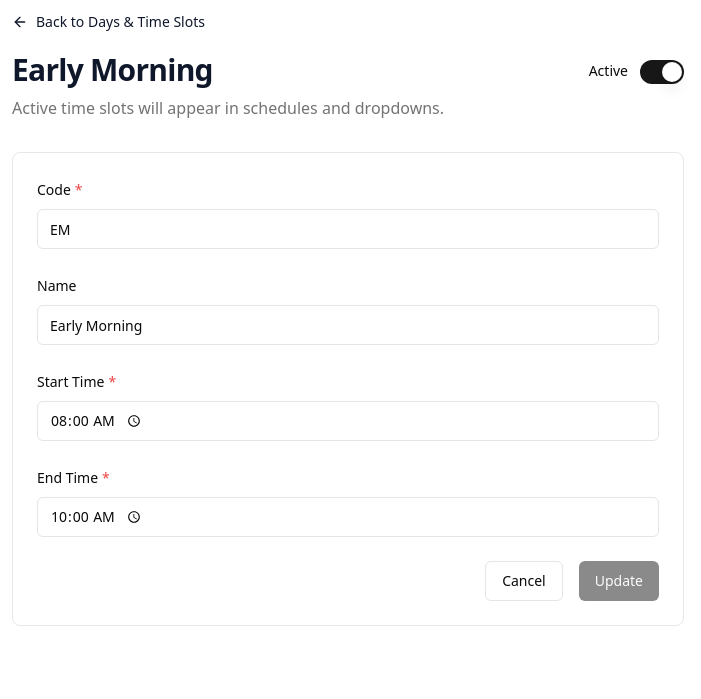
Test: TimeSlotForm (edit) › requires start and end time before submitting
The image size is (701, 699).
Clear the field showing "Early Morning" at (348, 325), box [37,305,659,345]
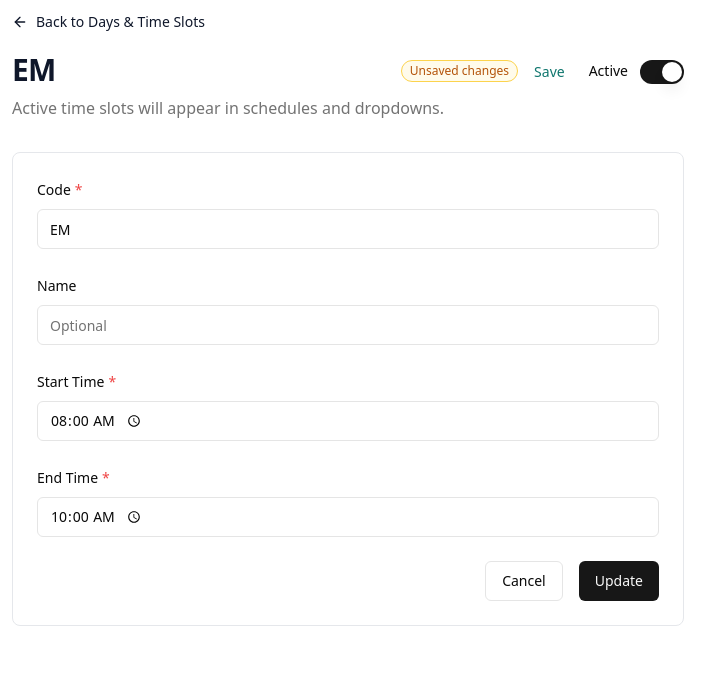
Clear the time field showing "08:00" at (348, 421), box [37,401,659,441]
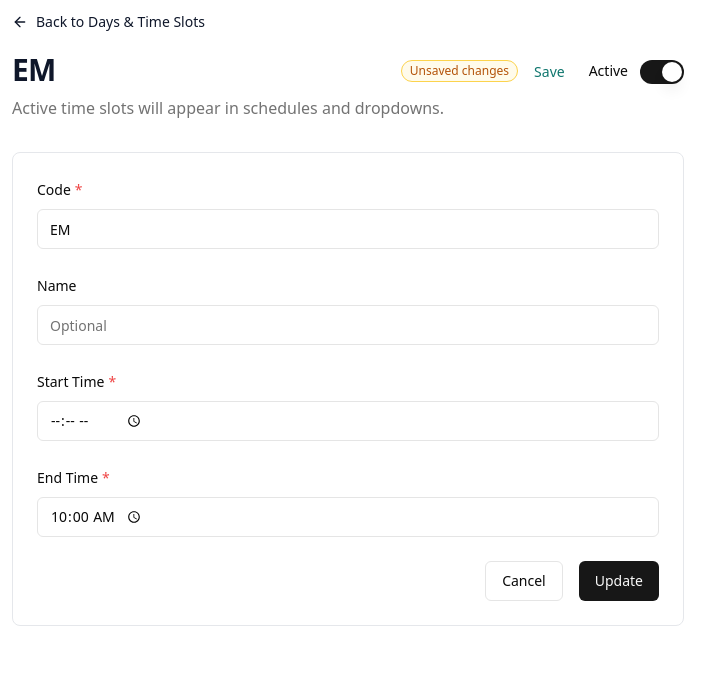
Clear the time field showing "10:00" at (348, 517), box [37,497,659,537]
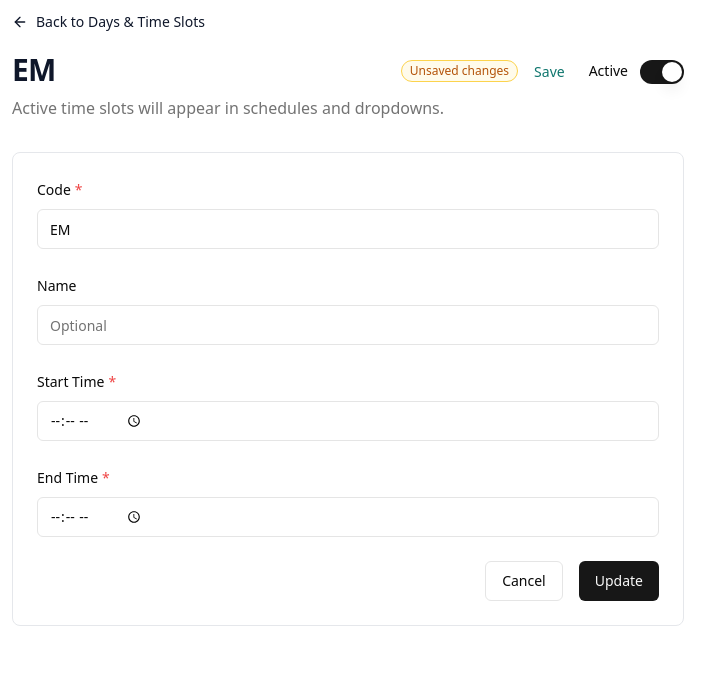
Click the button "Update".
click(619, 581)  # box [579,561,659,601]
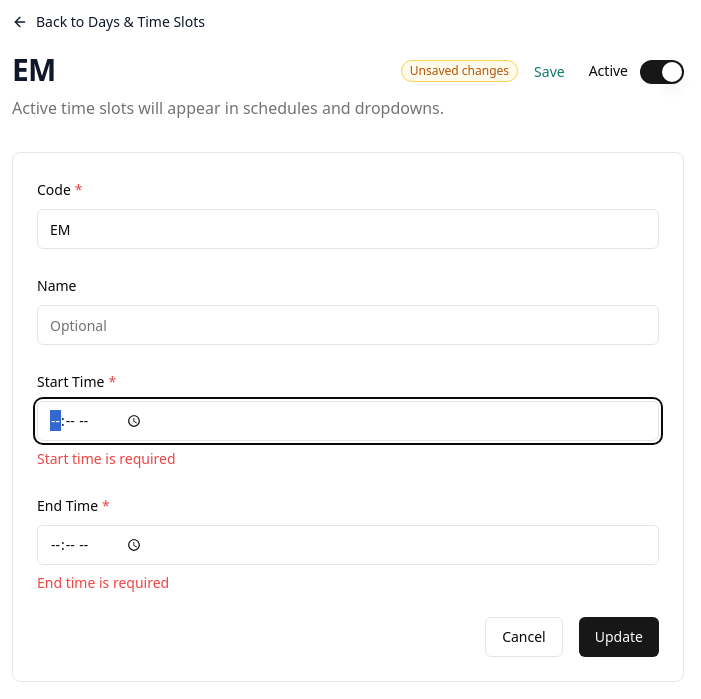
Expected: the text "Start time is required" is shown, [37,449,176,468]
Expected: the text "End time is required" is shown, [37,573,169,592]
